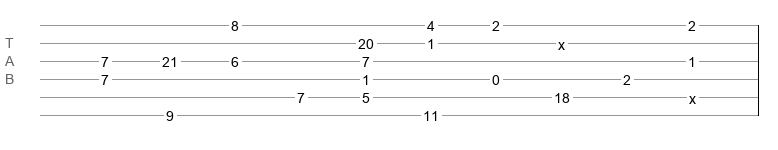0: (492, 72, 500, 82)
1: (362, 72, 370, 82), (427, 36, 435, 46), (688, 54, 696, 64)
11: (423, 108, 439, 118)
18: (554, 90, 570, 100)
2: (492, 18, 500, 28), (623, 72, 631, 82), (688, 18, 696, 28)
20: (358, 36, 374, 46)
21: (162, 54, 178, 64)
4: (427, 18, 435, 28)
5: (362, 90, 370, 100)
6: (231, 54, 239, 64)
7: (101, 54, 109, 64), (101, 72, 109, 82), (297, 90, 305, 100), (362, 54, 370, 64)
8: (231, 18, 239, 28)
9: (166, 108, 174, 118)
x: (558, 37, 565, 45), (689, 91, 696, 99)
